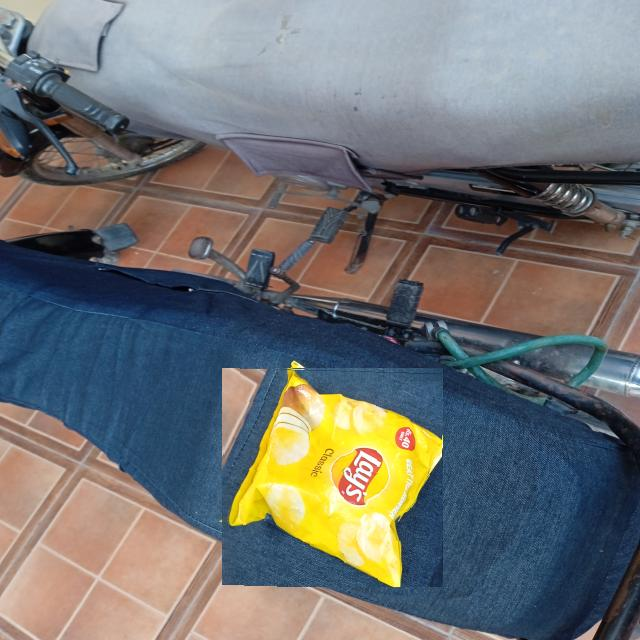Plastic: (223, 367, 442, 587)
